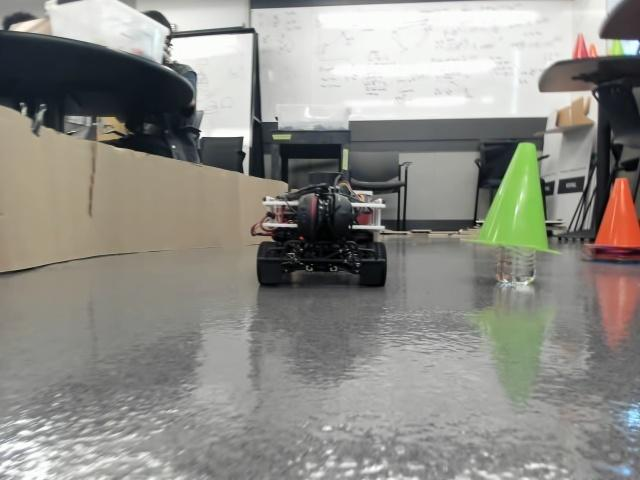Car: (260, 173, 385, 285)
